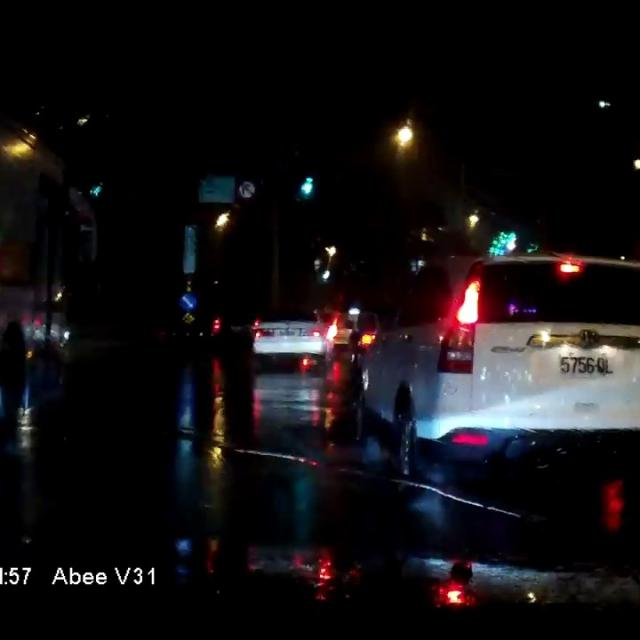Car: (351, 249, 639, 494), (246, 298, 334, 370), (321, 303, 386, 353)
